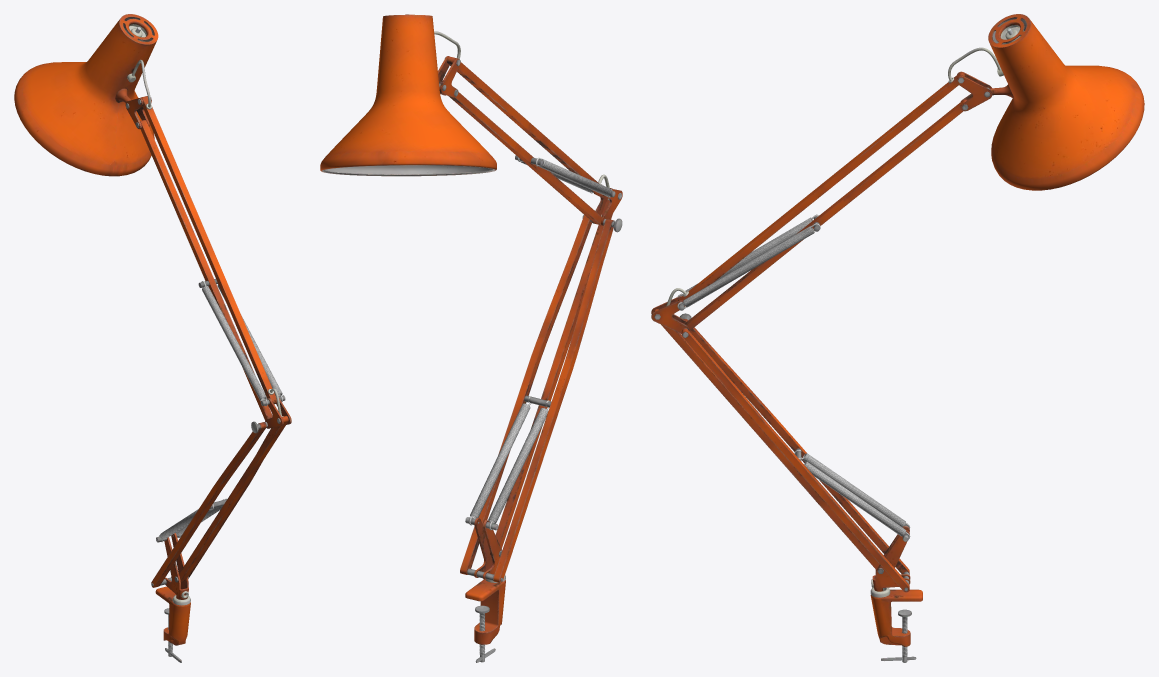
File: desk_lamp_rig.glb
3 views of the same model, side by side, from view 1: azimuth 30°, elevation 25°; view 2: azimuth 150°, elevation 25°; view 3: azimuth 270°, elevation 25° (orthographic). The views are drawn at different scales.
Parts seen in each view (by area): view 1: lamp_head, Box.026, Box.001, Box.025; view 2: lamp_head, Box.001, Box.026, Box.025; view 3: lamp_head, Box.001, Box.026, Box.025.
Boxes of the visible parts, x1,y1,x2,y2 form: lamp_head: [14, 14, 158, 176]; Box.026: [140, 96, 282, 421]; Box.001: [151, 388, 291, 587]; Box.025: [151, 533, 190, 662]; lamp_head: [320, 14, 496, 176]; Box.001: [460, 174, 622, 583]; Box.026: [447, 56, 621, 225]; Box.025: [465, 450, 541, 662]; lamp_head: [948, 14, 1144, 190]; Box.001: [651, 288, 910, 592]; Box.026: [654, 72, 967, 330]; Box.025: [842, 496, 922, 662].
Size of the model in its own units: 0.2017 by 0.8926 by 0.6139.
2 materials, 2 textured.
